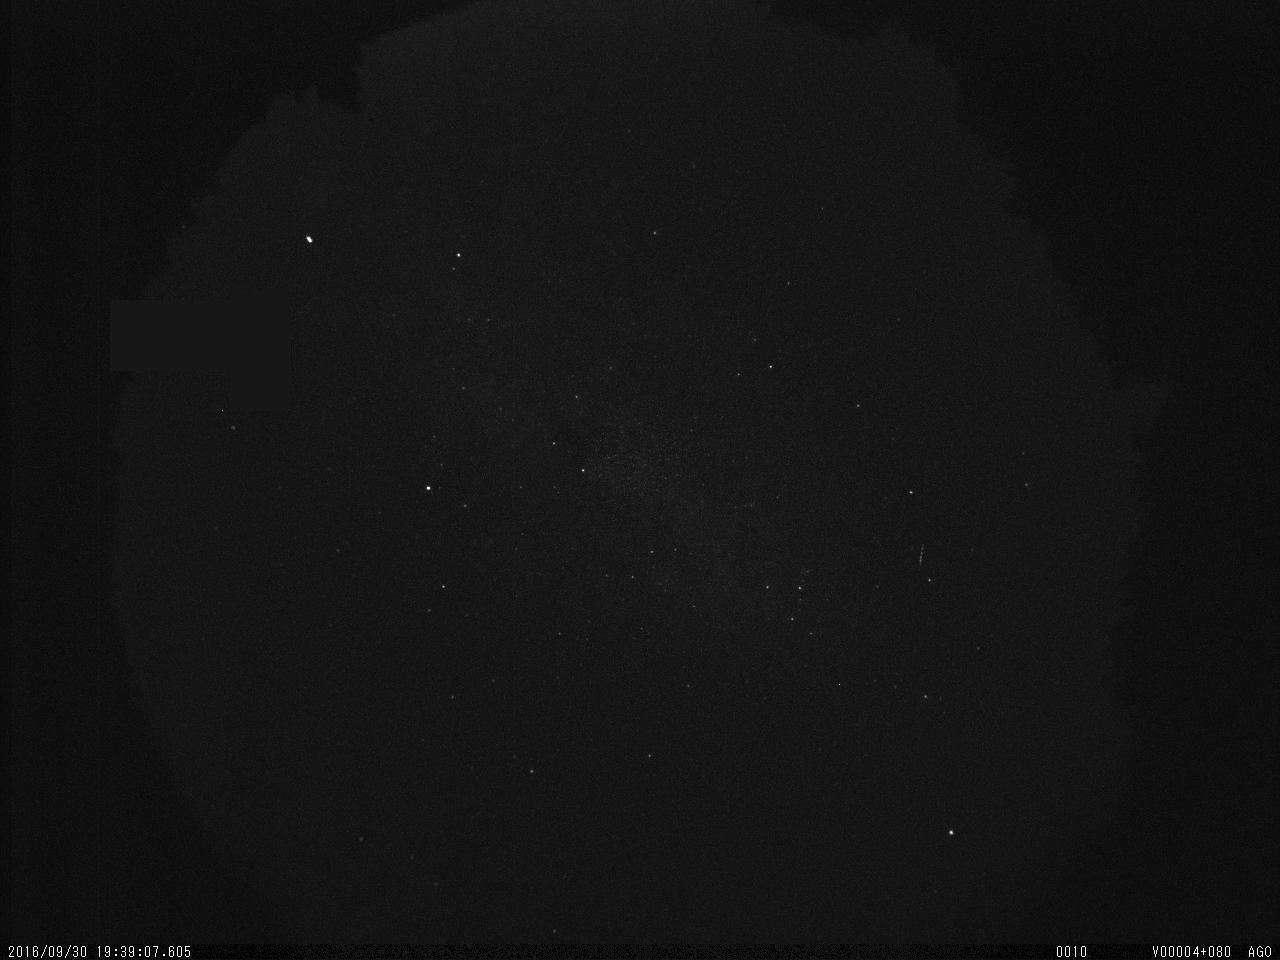Meteor: (916, 539, 929, 572)
